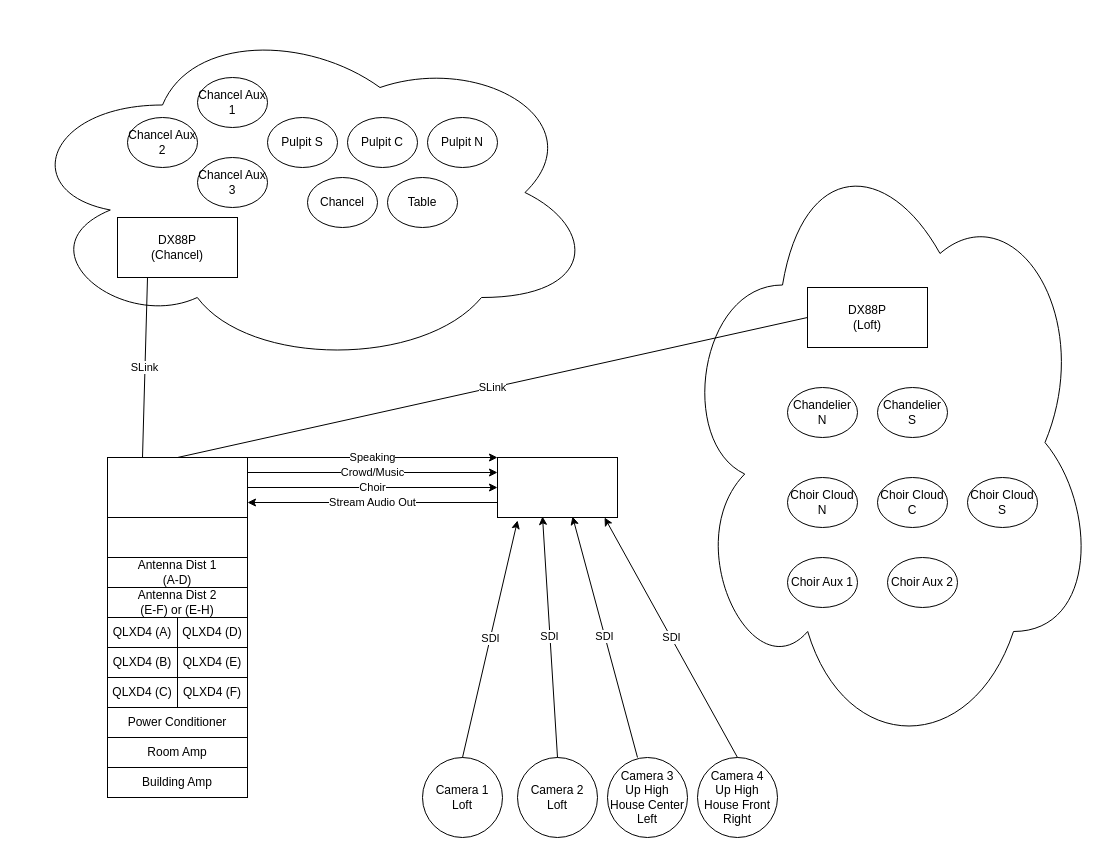
The diagram is 1115 pixels wide and 855 high, and some of its shapes have lost their labels. The centre of each missing label's shape, as x and y in pixels:
"existing CD?" goes at point 177,537.
"OBS" goes at point 557,487.
"SQRack" goes at point 177,487.
